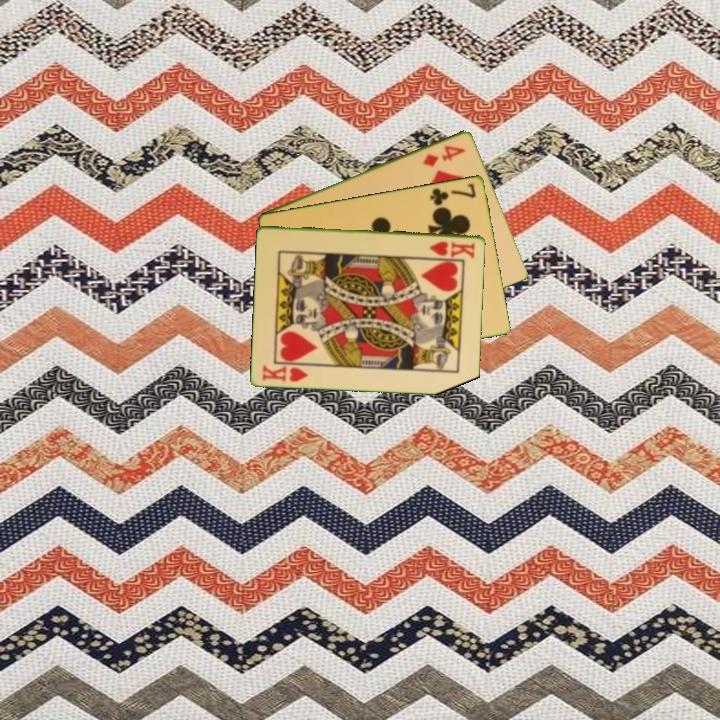4d: (419, 141, 468, 169)
7c: (426, 179, 479, 208)
Kh: (259, 361, 311, 385), (426, 237, 478, 260)
